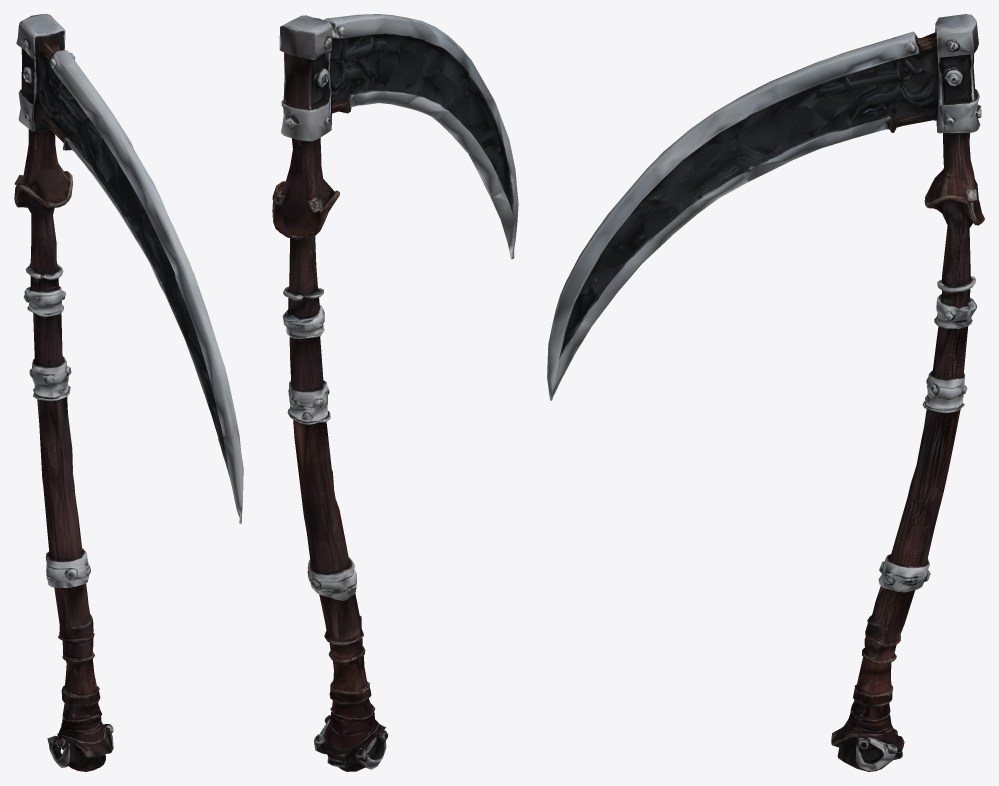
File: scythe.glb
3 views of the same model, side by side, from view 1: azimuth 30°, elevation 25°; view 2: azimuth 150°, elevation 25°; view 3: azimuth 270°, elevation 25° (orthographic). The views are drawn at different scales.
Parts seen in each view (by area): view 1: scythe; view 2: scythe; view 3: scythe.
Boxes of the visible parts, <box> form: scythe: <box>14,14,243,771</box>; scythe: <box>272,14,518,771</box>; scythe: <box>547,14,984,771</box>.
Bounding box in the file's own units: 0.1384 × 1.7 × 0.8994.
1 material, 1 textured.
